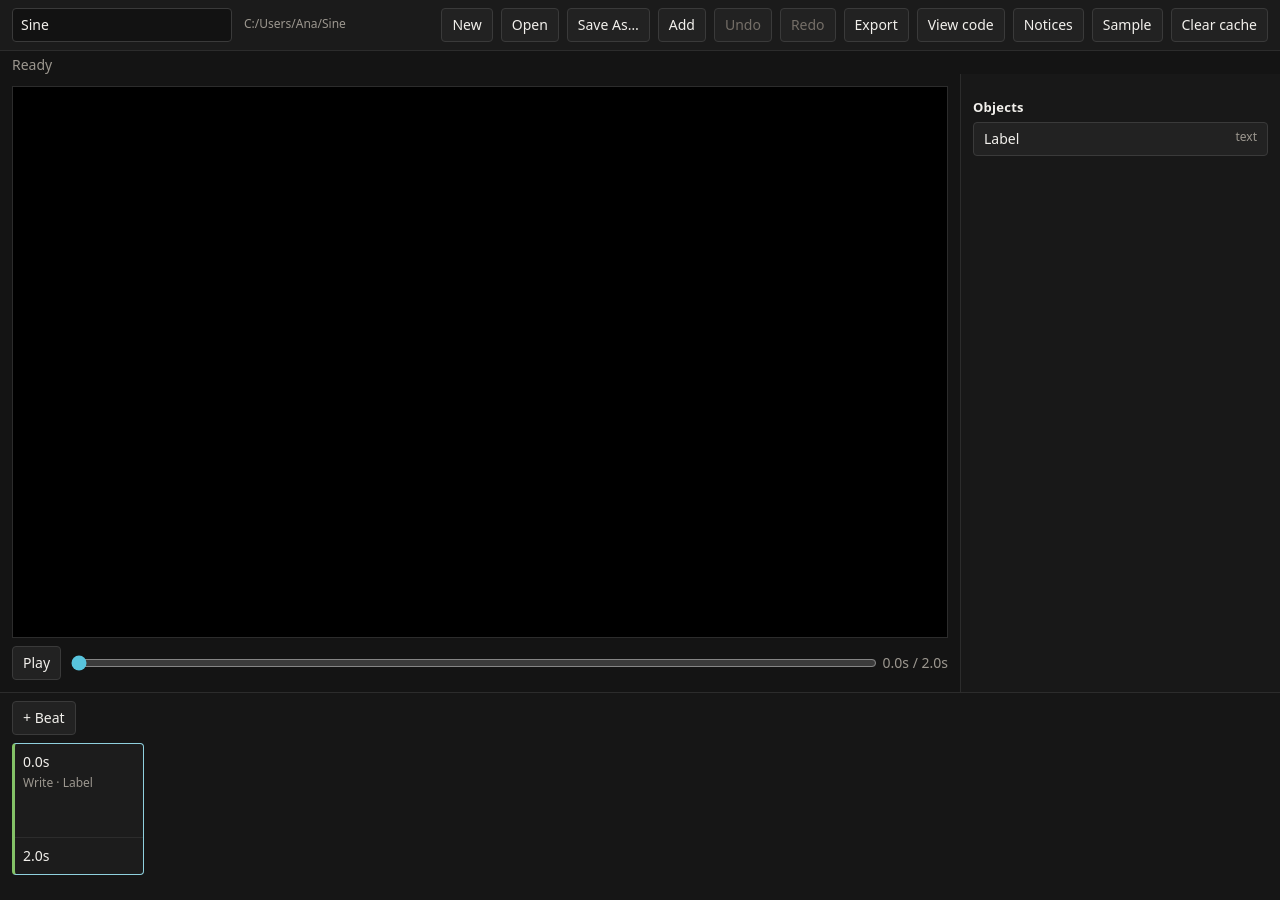
Test case: App › scrubs the preview without a worker command
The width and height of the screenshot is (1280, 900).
Expected: the text with test id "status" reads "Ready", [12, 55, 52, 74]
Set the slider with test id "playhead" to "0.5" at coordinates (276, 663), box [71, 655, 877, 671]
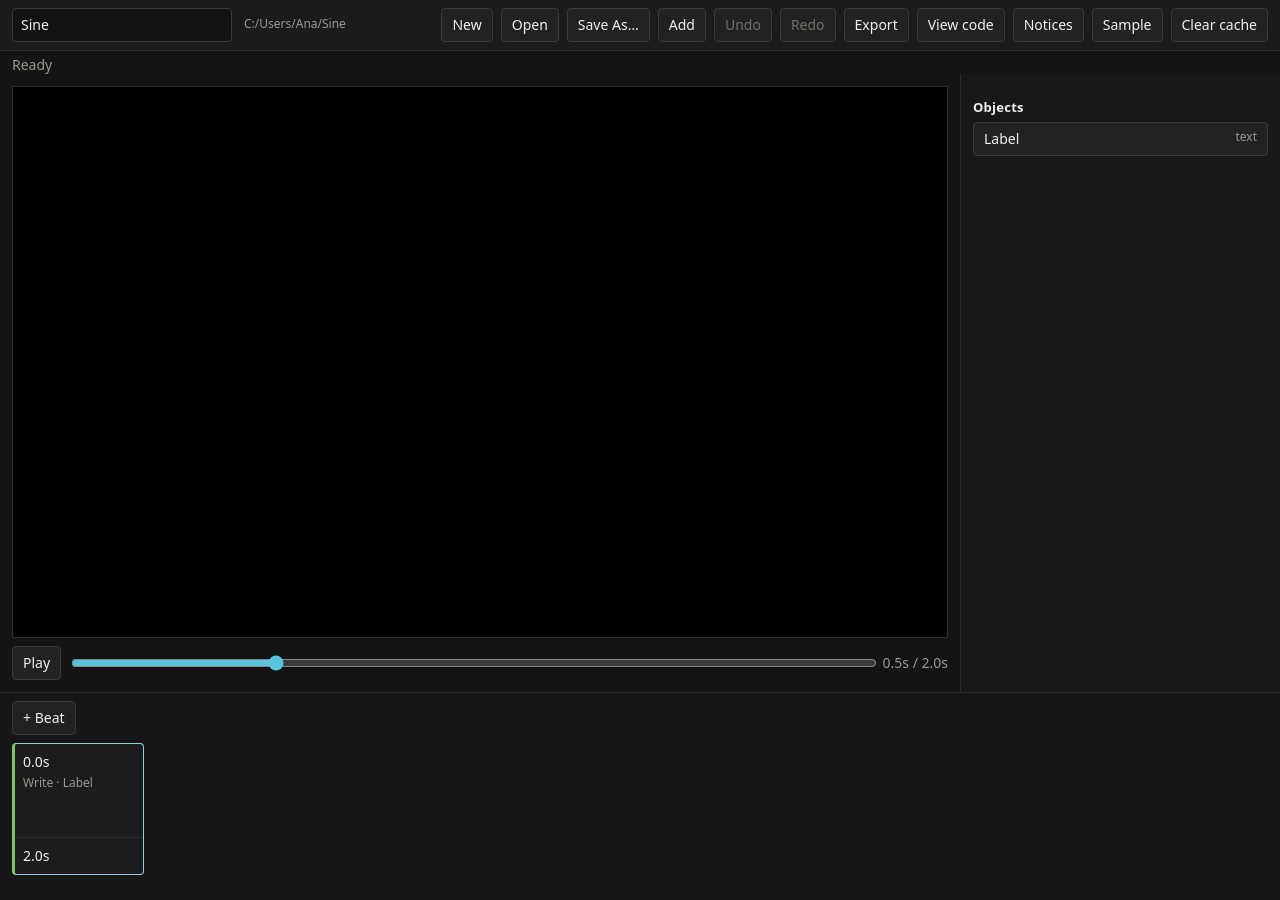
Set the slider with test id "playhead" to "1.25" at coordinates (573, 663), box [71, 655, 877, 671]
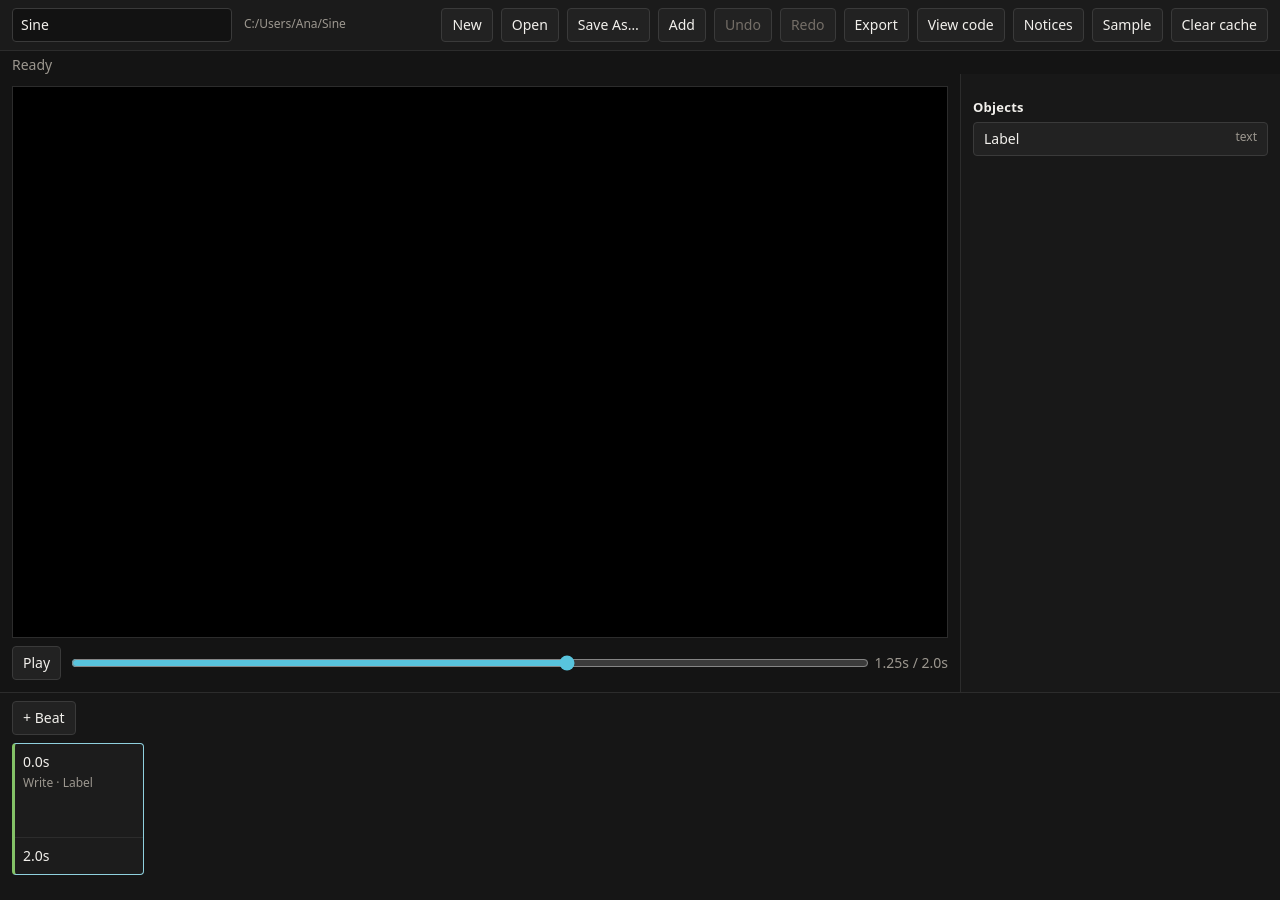
Set the slider with test id "playhead" to "2" at coordinates (861, 663), box [71, 655, 869, 671]
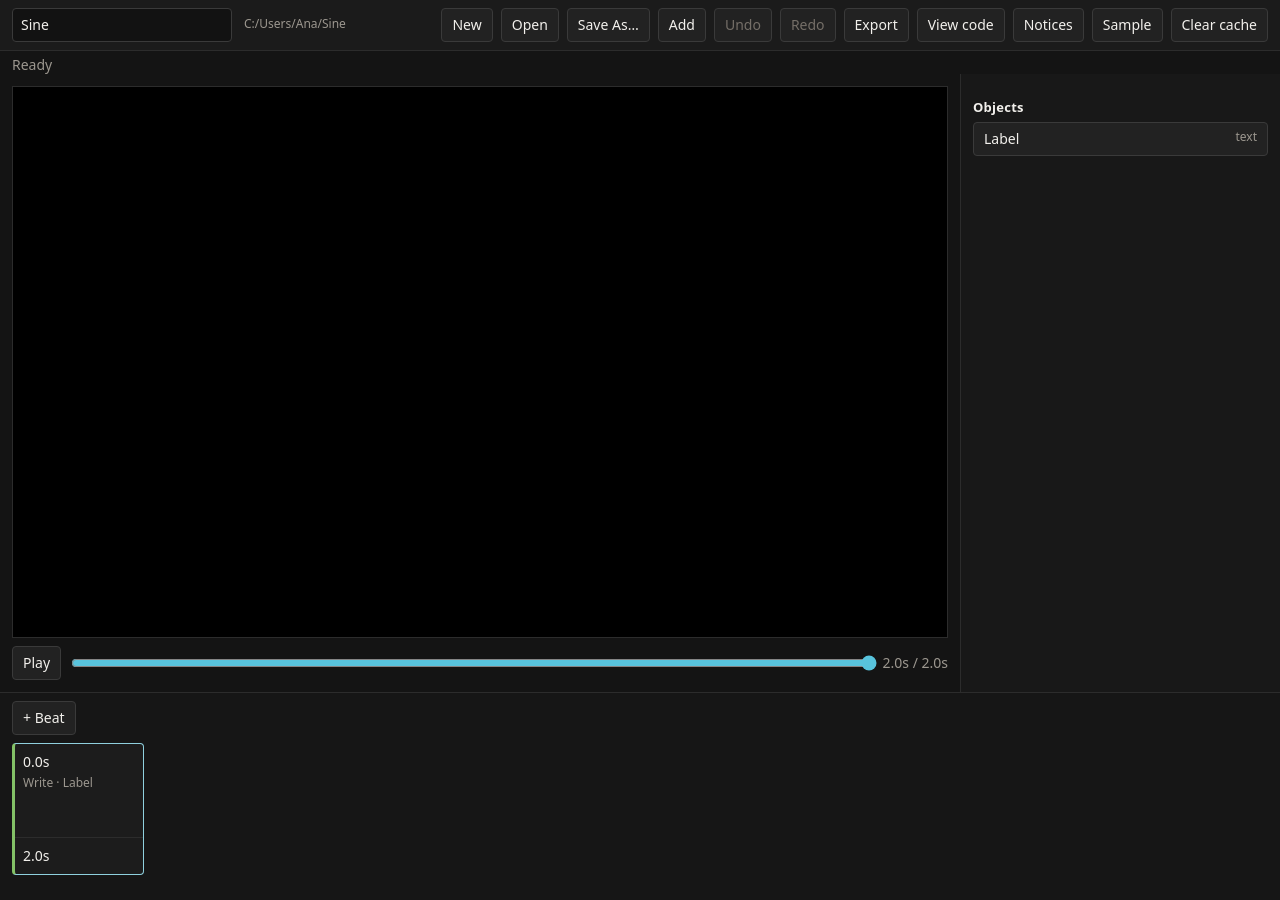
Result: the text with test id "playhead-time" reads "2.0s / 2.0s" at [882, 653, 948, 673]
